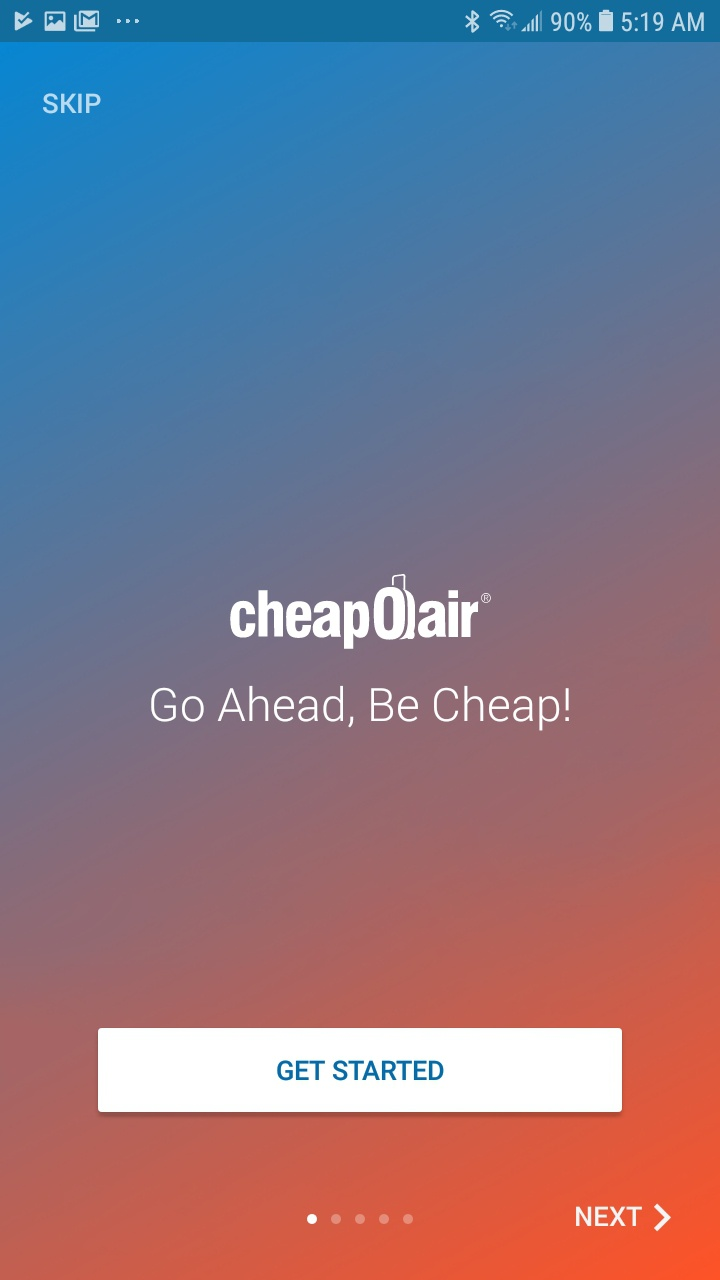Icon: (653, 1203, 672, 1232)
Image: (230, 573, 492, 650)
PageIndicator: (306, 1212, 414, 1225)
Text: (150, 685, 570, 732), (575, 1205, 643, 1227), (43, 93, 102, 116)
TextButton: (98, 1028, 623, 1113)
UpperTaskBar: (1, 1, 720, 43)
